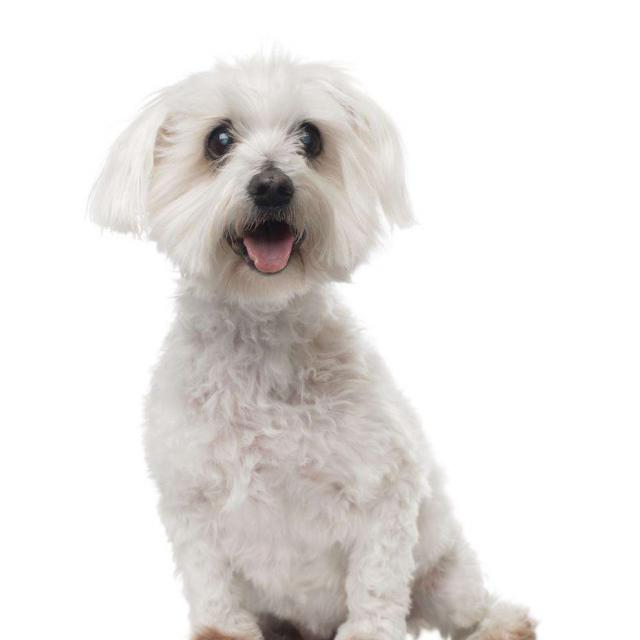eye: (203, 118, 239, 165), (291, 118, 326, 163)
